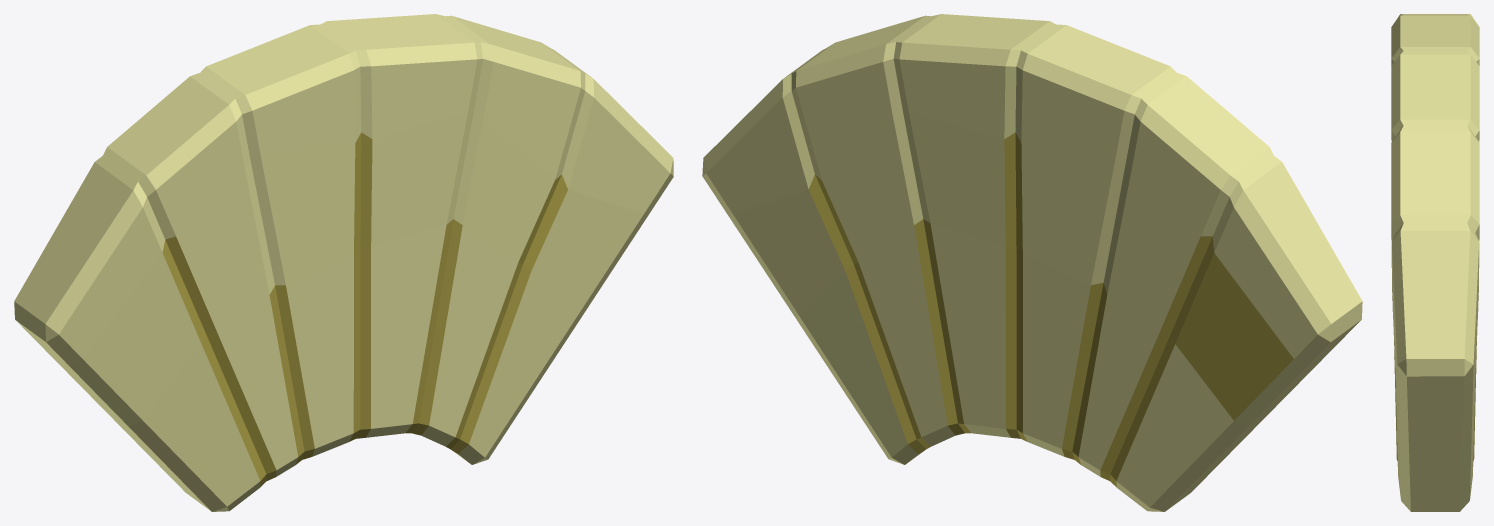
Rendered from pineapple.fbx.
The picture shows the model from 3 angles, left to right: view 1: azimuth 30°, elevation 25°; view 2: azimuth 150°, elevation 25°; view 3: azimuth 270°, elevation 25°; orthographic projection. The views are drawn at different scales.
Parts seen in each view (by area): view 1: pCube1; view 2: pCube1; view 3: pCube1.
Boxes of the visible parts, <box> form: pCube1: <box>14,14,673,511</box>; pCube1: <box>702,14,1362,511</box>; pCube1: <box>1391,14,1479,511</box>.
Size of the model in its own units: 2.32 by 1.58 by 0.3145.
